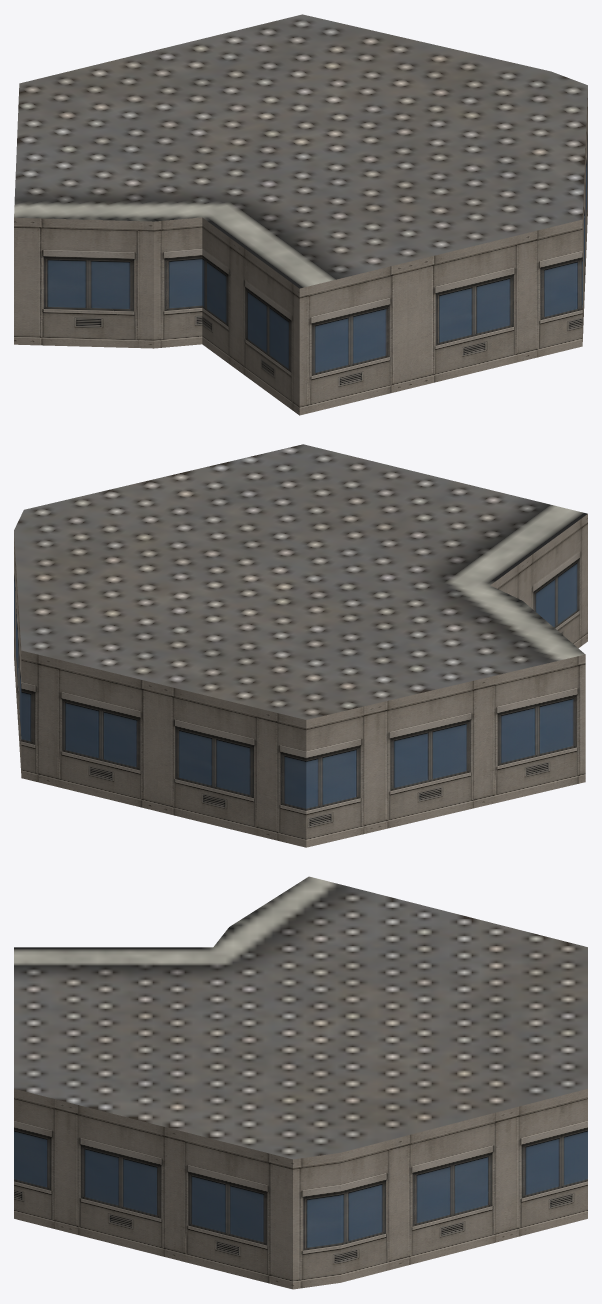
Rendered from building_light_a_47.glb.
3 renders of one model, top to bottom at view 1: azimuth 30°, elevation 25°; view 2: azimuth 150°, elevation 25°; view 3: azimuth 270°, elevation 25°, orthographic. The views are drawn at different scales.
Parts seen in each view (by area): view 1: buildings/saxarba/building_light/building_light_a_47; view 2: buildings/saxarba/building_light/building_light_a_47; view 3: buildings/saxarba/building_light/building_light_a_47.
Part boxes in pixels (box(x1,y1,x2,y2)): buildings/saxarba/building_light/building_light_a_47: box(14, 14, 587, 415); buildings/saxarba/building_light/building_light_a_47: box(14, 444, 587, 847); buildings/saxarba/building_light/building_light_a_47: box(14, 876, 587, 1289).
Bounding box in the file's own units: 84 × 18 × 72.
